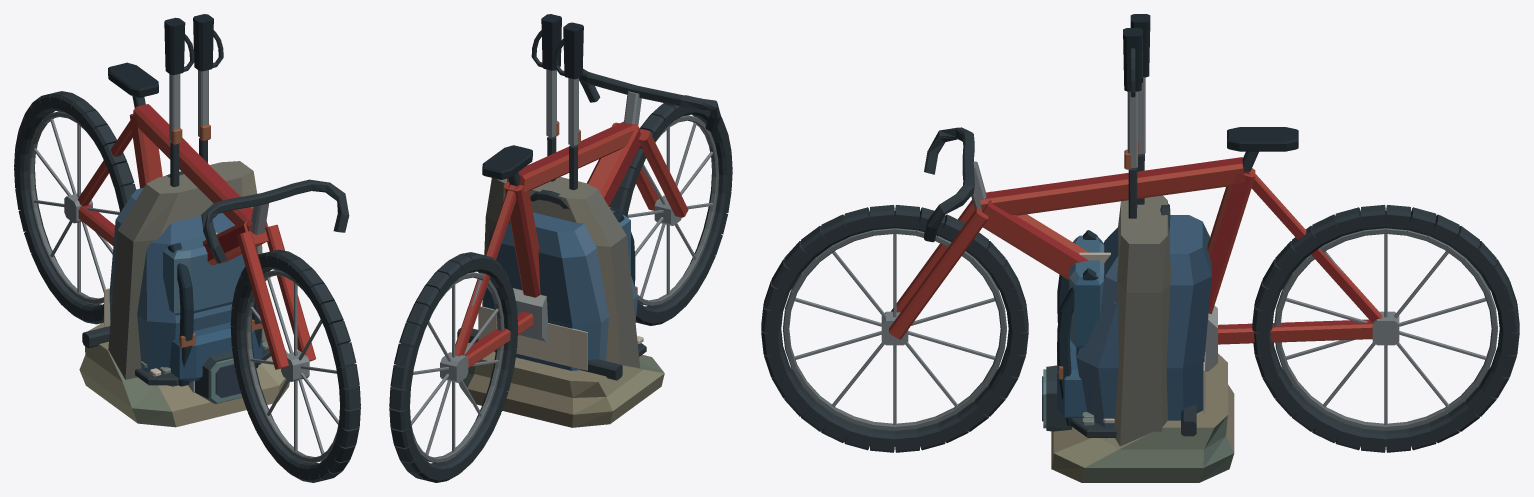
The model's file is personal-v2.glb.
The picture shows the model from 3 angles, left to right: view 1: azimuth 30°, elevation 25°; view 2: azimuth 150°, elevation 25°; view 3: azimuth 270°, elevation 25°; orthographic projection. The views are drawn at different scales.
Parts seen in each view (by area): view 1: Trek, SacRando, Stèle, Olivetti280, Batons, Mamiya645; view 2: Trek, Olivetti280, SacRando, Stèle, Batons; view 3: Trek, SacRando, Stèle, Olivetti280, Batons, Mamiya645.
Part boxes in pixels (x1,y1,x2,y2): Trek: [14, 62, 360, 482]; SacRando: [109, 171, 263, 386]; Stèle: [108, 161, 266, 379]; Olivetti280: [79, 288, 289, 427]; Batons: [164, 14, 223, 186]; Mamiya645: [188, 351, 242, 403]; Trek: [389, 69, 732, 482]; Olivetti280: [457, 306, 664, 427]; SacRando: [484, 189, 637, 370]; Stèle: [482, 177, 639, 367]; Batons: [531, 14, 583, 189]; Trek: [761, 127, 1519, 452]; SacRando: [1057, 204, 1211, 438]; Stèle: [1113, 195, 1171, 446]; Olivetti280: [1051, 352, 1234, 482]; Batons: [1123, 14, 1150, 218]; Mamiya645: [1042, 365, 1075, 431].
Size of the model in its own units: 0.53 by 1.18 by 1.92.
